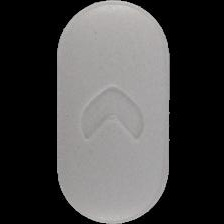68788-6327: (0, 0, 224, 224)
